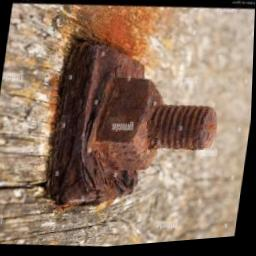Corroded-Nut-and-Bolt: (42, 40, 219, 212)
